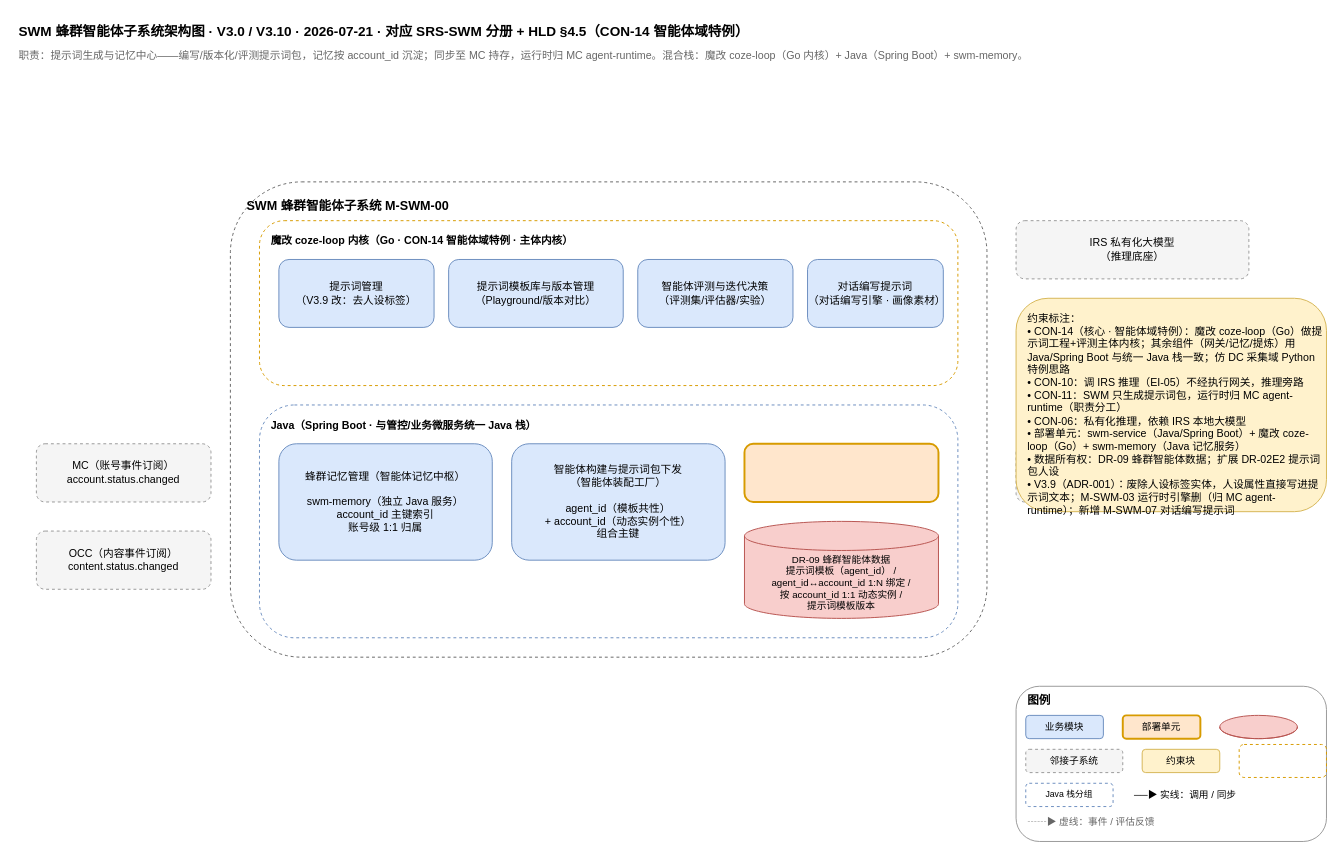
Some shapes in this 1343 by 858 pixel diagram are drawn without their labels. The shapes that lost their labels are listed below. From the top down, each one's centre as x and y in pixels, then its label:
(841,472): swm-gw（网关） + swm-distill（编排提炼） Java/Spring Boot
(1258,726): 数据
(1282,760): Go 栈分组 （coze-loop）
